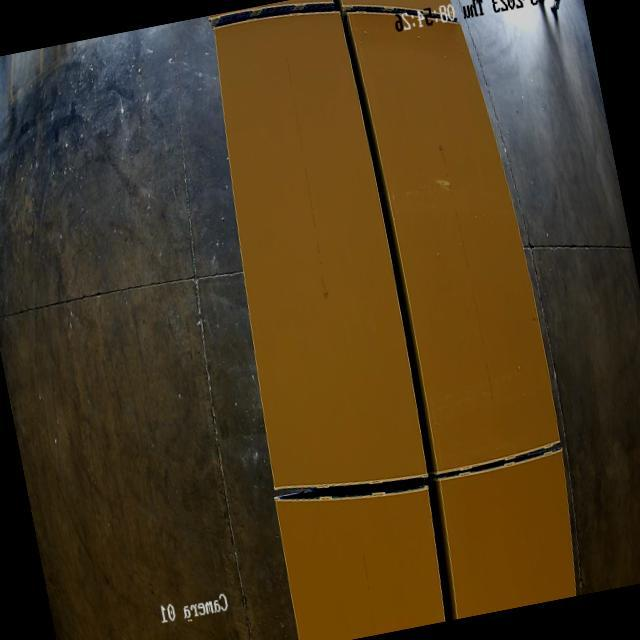person: (532, 0, 578, 19)
